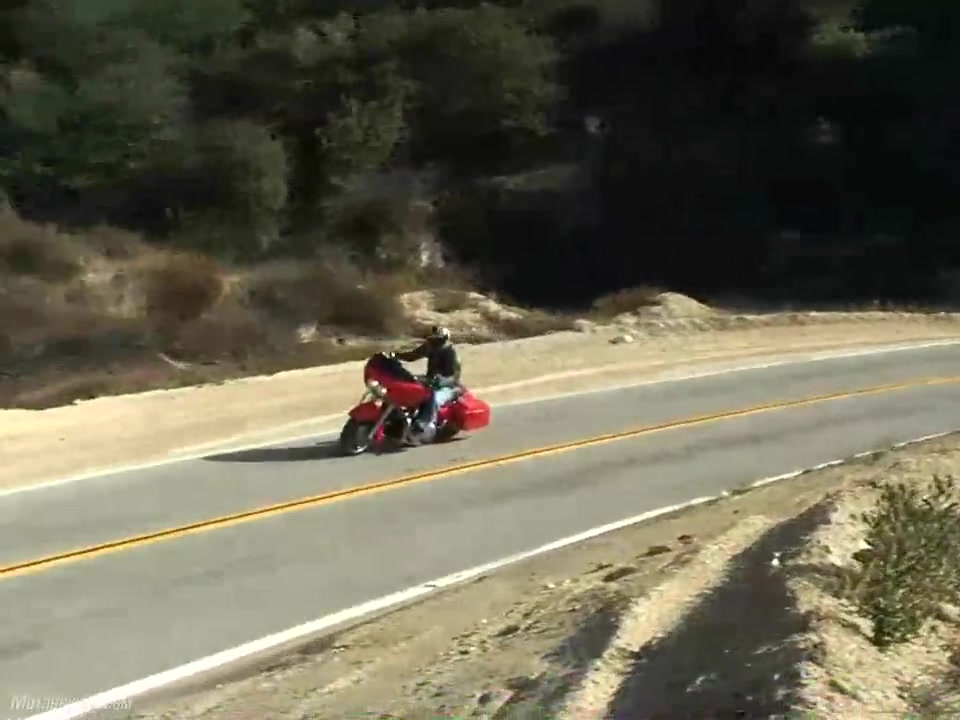motorbike: (337, 350, 494, 459)
